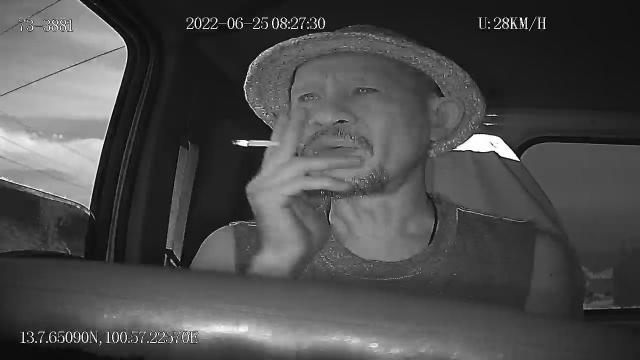SafeDriving: (346, 78, 384, 102), (294, 84, 324, 108)
Smoking: (232, 134, 288, 150)
